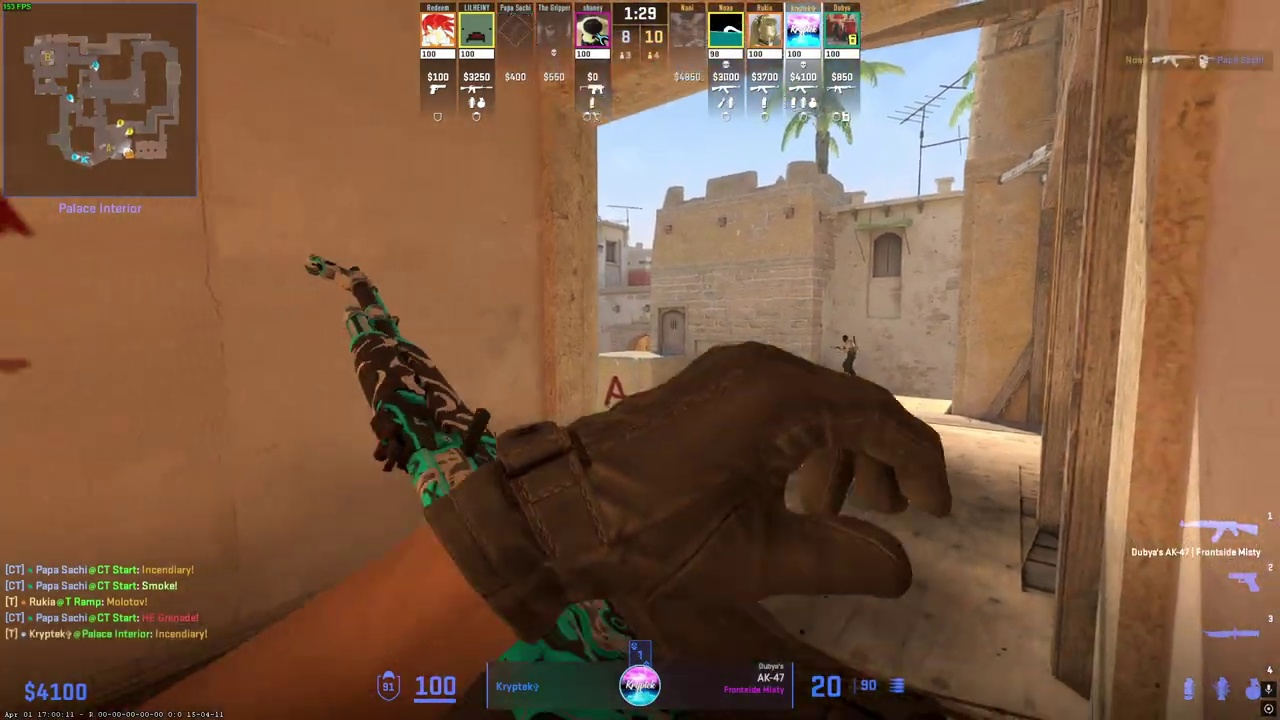Terrorist: (839, 333, 859, 376)
